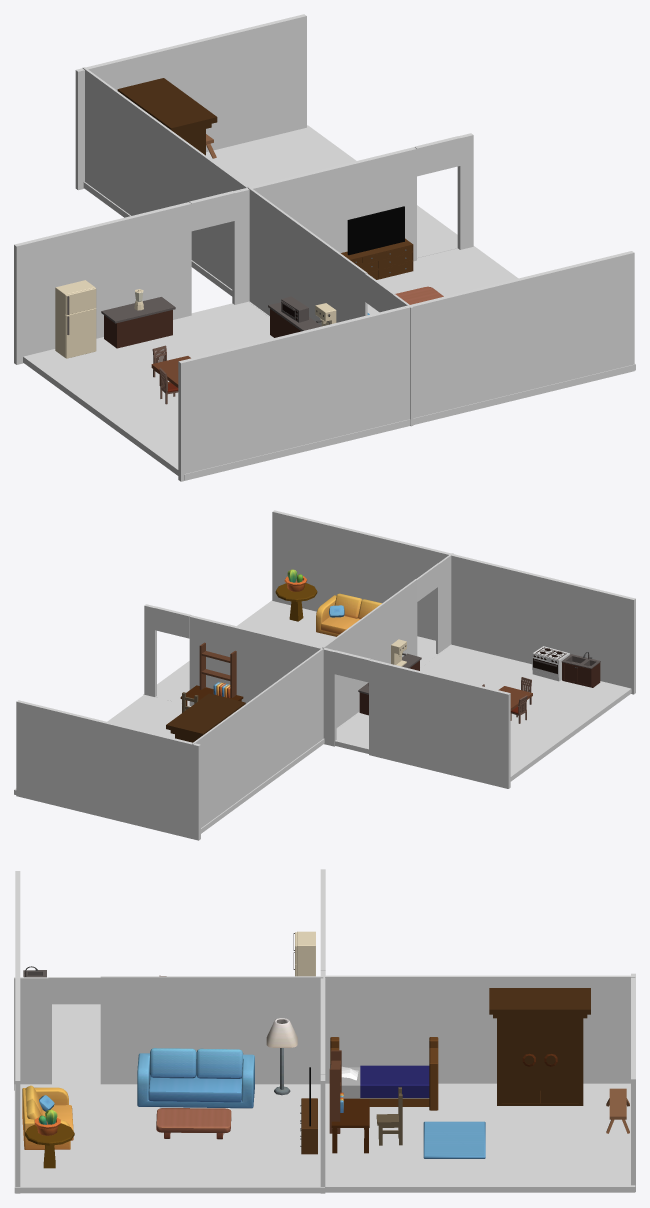
3 renders of one model, top to bottom at view 1: azimuth 30°, elevation 25°; view 2: azimuth 150°, elevation 25°; view 3: azimuth 270°, elevation 25°, orthographic. The views are drawn at different scales.
Visible parts, largest first — view 1: Cube3, Cube2, Cube, Cube_0052, Cube_0012, Cube_002, Cube_005, Cube_0022, Cube_001, floor, Wardrobe, ModernKitchenTable1 (+11 smaller); view 2: Cube, Cube3, Cube_0052, Cube_002, Cube2, Cube_0012, Cube_005, Cube_0022, floor, Cube_001, Wardrobe, couch_pillows (+10 smaller); view 3: floor, Cube_001, Cube_002, Cube_0022, Wardrobe, couch, Bed_Single, Cube_0012, Cube_004, rug_rectangle_B, table_low, couch_pillows (+16 smaller).
Part boxes in pixels (<box>): Cube3: <box>178,306,406,481</box>; Cube2: <box>404,251,634,426</box>; Cube: <box>75,14,306,190</box>; Cube_0052: <box>14,202,191,364</box>; Cube_0012: <box>23,301,409,480</box>; Cube_002: <box>82,67,248,289</box>; Cube_005: <box>239,147,416,303</box>; Cube_0022: <box>248,187,367,325</box>; Cube_001: <box>83,125,457,296</box>; floor: <box>249,246,635,425</box>; Wardrobe: <box>117,78,217,155</box>; ModernKitchenTable1: <box>101,297,175,348</box>; Cube: <box>16,700,200,840</box>; Cube3: <box>452,555,635,694</box>; Cube_0052: <box>369,659,510,788</box>; Cube_002: <box>192,648,323,827</box>; Cube2: <box>272,510,455,644</box>; Cube_0012: <box>335,645,631,781</box>; Cube_005: <box>189,615,330,705</box>; Cube_0022: <box>322,579,417,727</box>; floor: <box>143,600,451,728</box>; Cube_001: <box>14,694,324,833</box>; Wardrobe: <box>166,693,245,742</box>; couch_pillows: <box>316,593,381,636</box>; floor: <box>14,1082,324,1193</box>; Cube_001: <box>325,1083,635,1192</box>; Cube_002: <box>325,975,635,1083</box>; Cube_0022: <box>100,976,323,1084</box>; Wardrobe: <box>489,988,590,1105</box>; couch: <box>137,1048,254,1108</box>; Bed_Single: <box>330,1037,438,1110</box>; Cube_0012: <box>52,1004,100,1082</box>; Cube_004: <box>14,977,51,1090</box>; rug_rectangle_B: <box>423,1121,485,1158</box>; table_low: <box>156,1108,231,1139</box>; couch_pillows: <box>22,1085,73,1149</box>.
Size of the model in its own units: 16.19 by 4.04 by 20.05.
